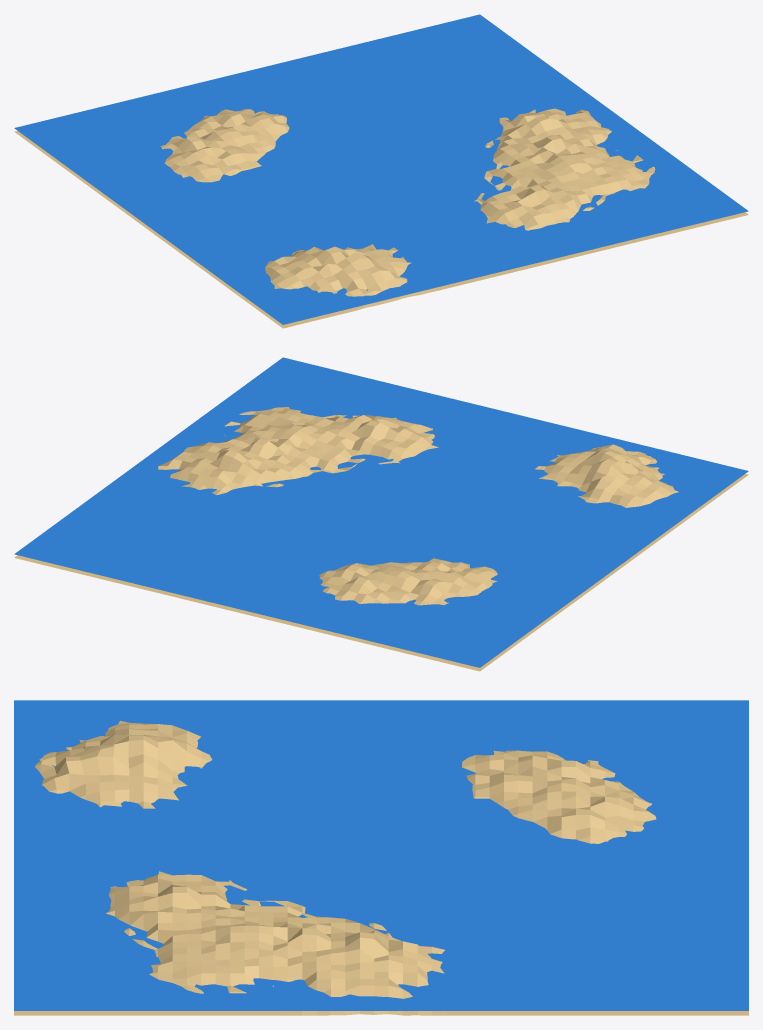
The model's file is map01.fbx.
3 renders of one model, top to bottom at view 1: azimuth 30°, elevation 25°; view 2: azimuth 150°, elevation 25°; view 3: azimuth 270°, elevation 25°, orthographic. The views are drawn at different scales.
Visible parts, largest first — view 1: Water, Land; view 2: Water, Land; view 3: Water, Land.
Part boxes in pixels (box(x1,y1,x2,y2)): Water: box(14, 14, 748, 324); Land: box(14, 108, 748, 328); Water: box(14, 357, 748, 667); Land: box(14, 407, 748, 671); Water: box(14, 700, 748, 1010); Land: box(14, 720, 748, 1015).
Size of the model in its own units: 10000 by 473 by 10000.
